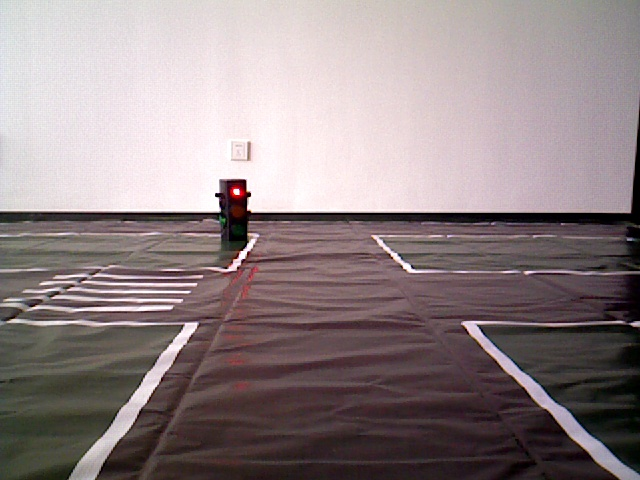red: (217, 180, 244, 242)
